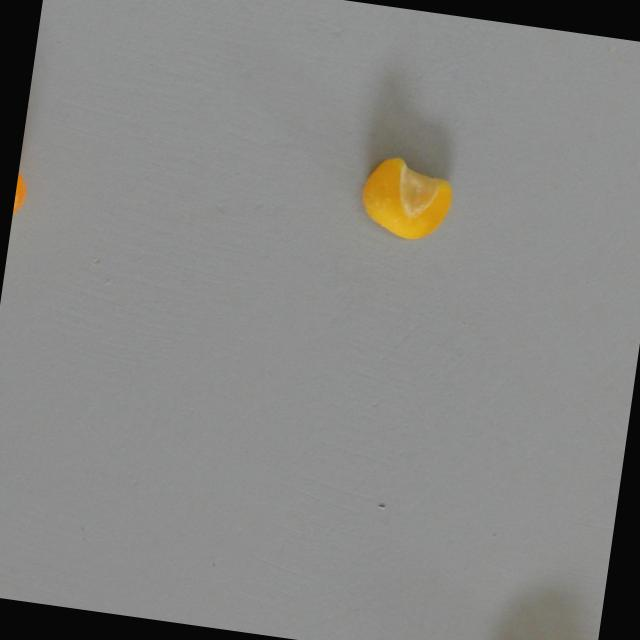no_canjicado: (349, 148, 463, 247)
pelicula: (9, 141, 38, 239)
